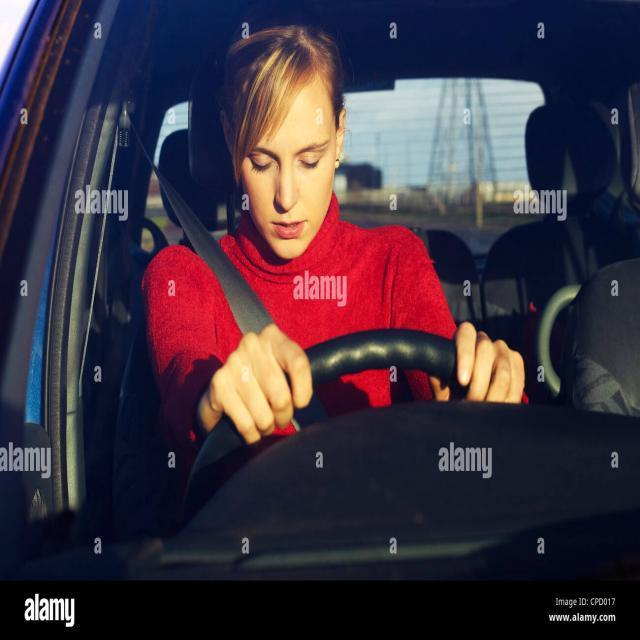no-seatbelt: (242, 138, 330, 176)
